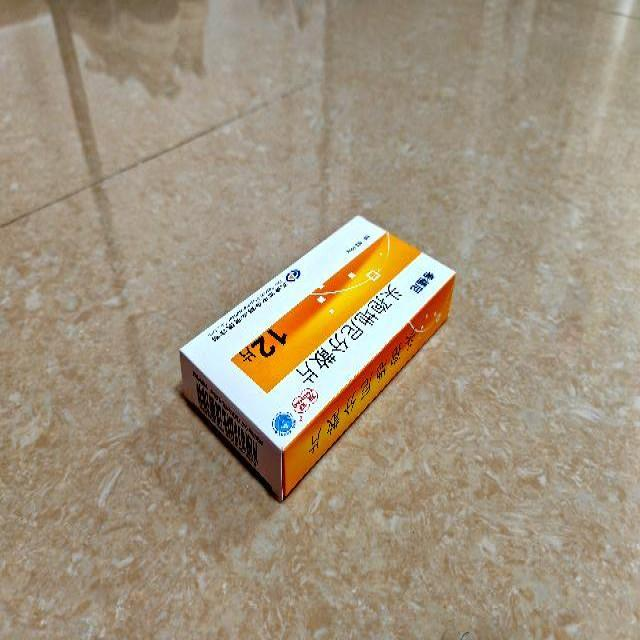box: (179, 213, 455, 504)
